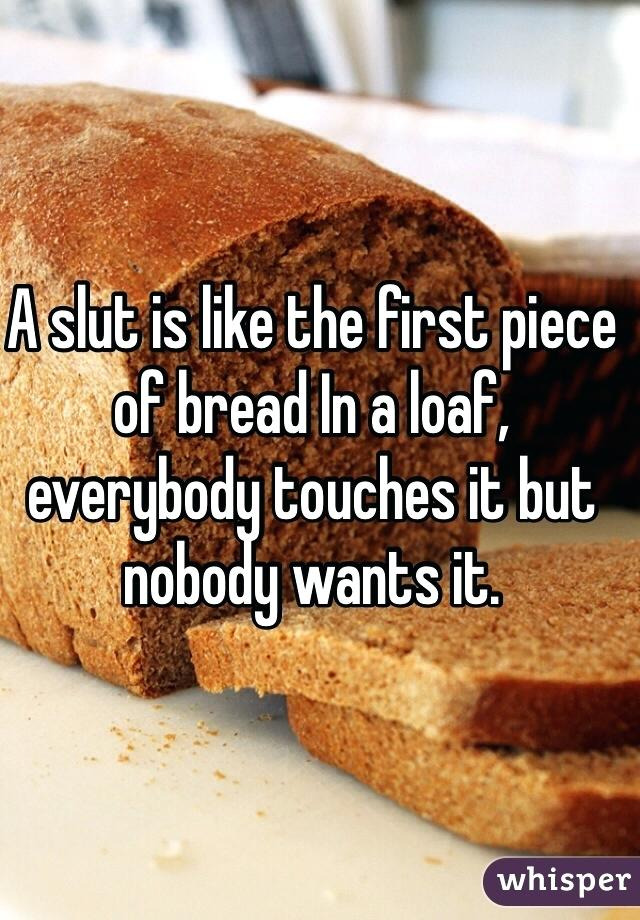slice of bread: (253, 611, 593, 835)
